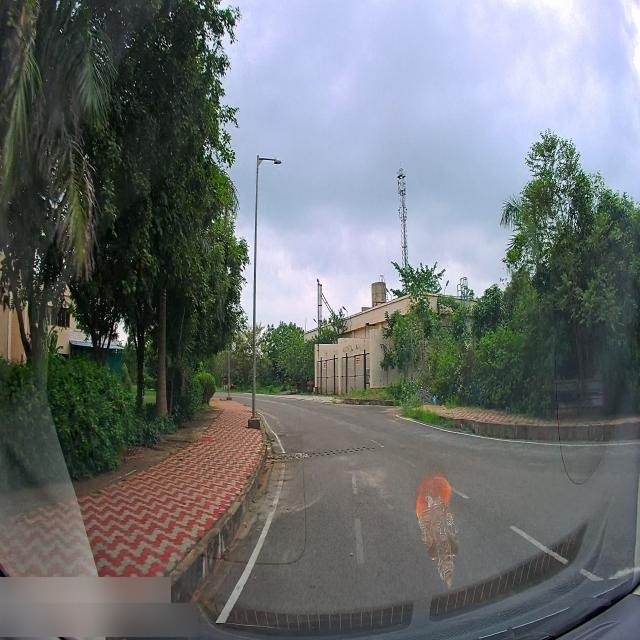pothole: (266, 450, 284, 465)
